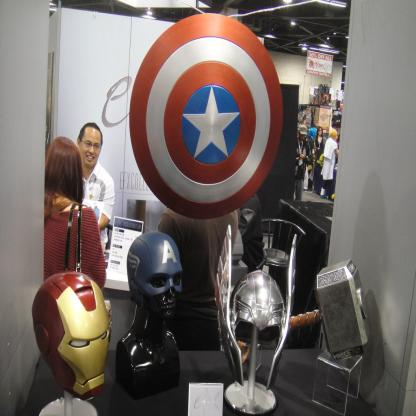Helmet: (214, 225, 296, 416), (32, 271, 113, 406), (126, 231, 185, 323)
